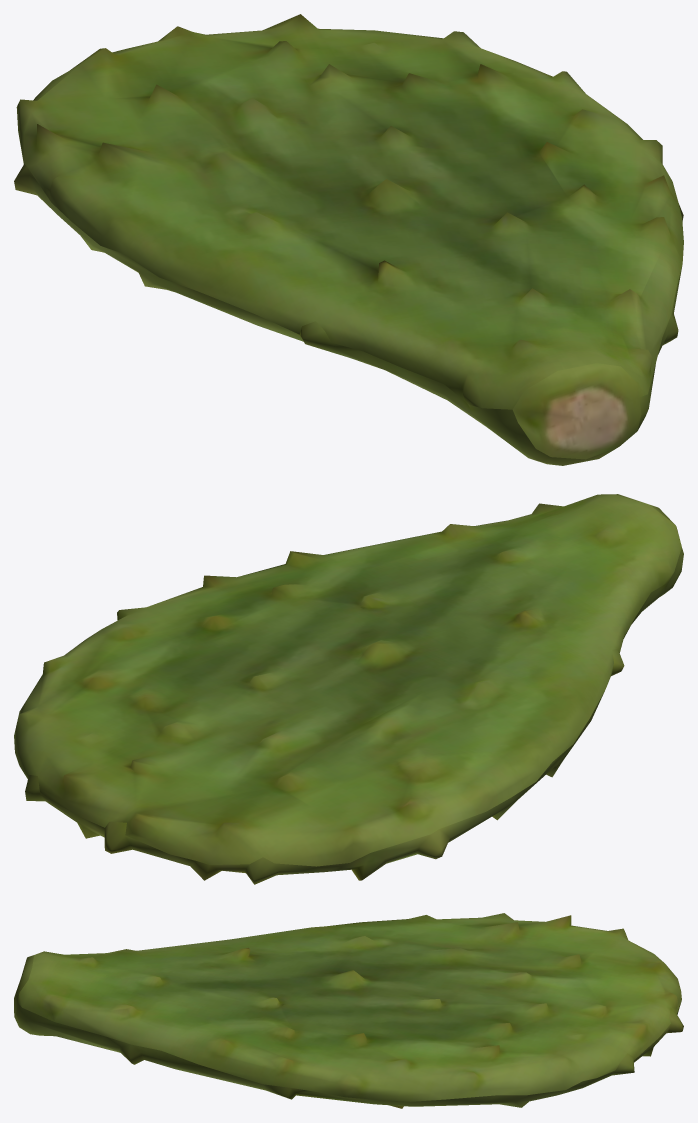
Rendered from cactusflesh.glb.
3 renders of one model, top to bottom at view 1: azimuth 30°, elevation 25°; view 2: azimuth 150°, elevation 25°; view 3: azimuth 270°, elevation 25°, orthographic. The views are drawn at different scales.
Parts seen in each view (by area): view 1: cactusflesh_LOD0; view 2: cactusflesh_LOD0; view 3: cactusflesh_LOD0.
Part boxes in pixels (x1,y1,x2,y2): cactusflesh_LOD0: (14,14,683,465); cactusflesh_LOD0: (14,494,683,884); cactusflesh_LOD0: (14,913,683,1108).
Size of the model in its own units: 0.1657 by 0.0323 by 0.2743.
1 material, 1 textured.
